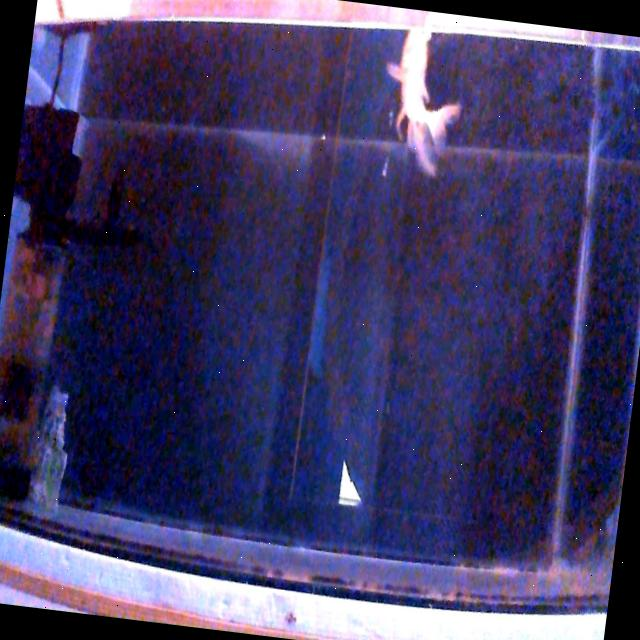fish: (372, 20, 474, 178)
